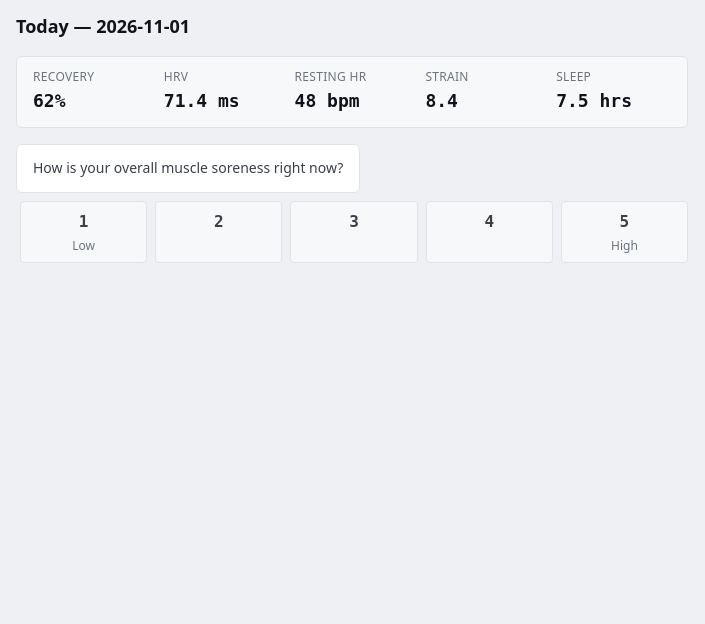
MorningView › degraded-Ollama banner: renders the WARN badge with unchanged banner content, no followup
Click the button "3".
click(354, 232)  # box [290,201,418,263]
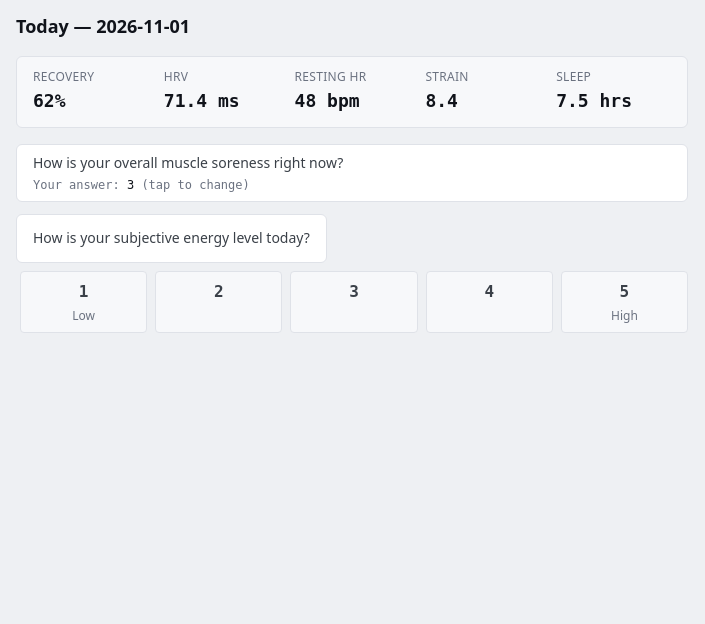
Click the button "3".
click(354, 302)  # box [290,271,418,333]
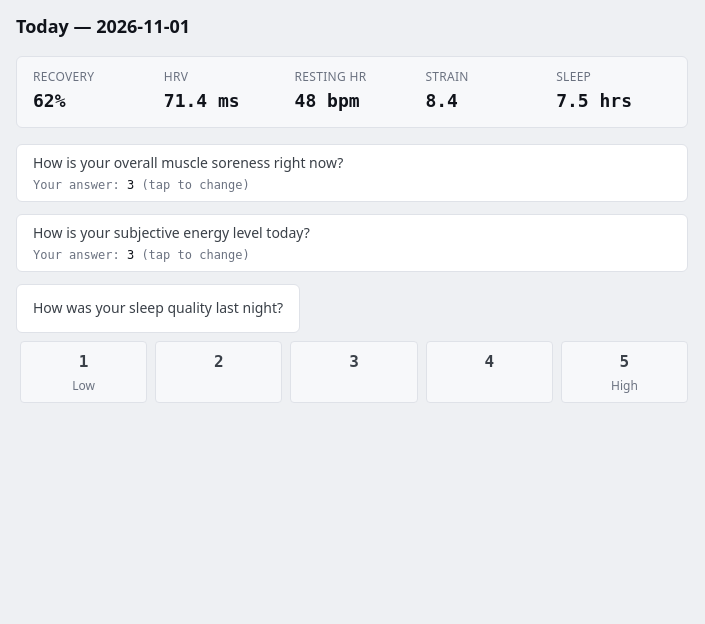
Click the button "3".
click(354, 372)  # box [290,341,418,403]
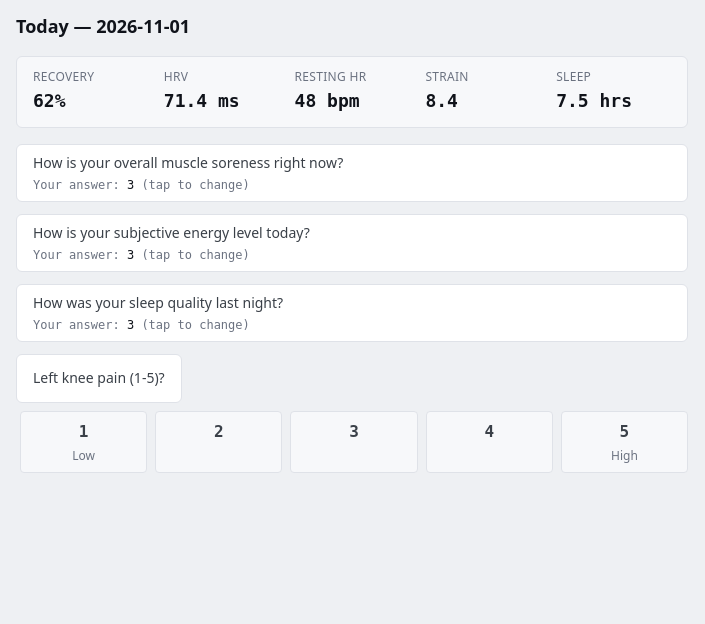
Click the button "3".
click(354, 442)  # box [290,411,418,473]
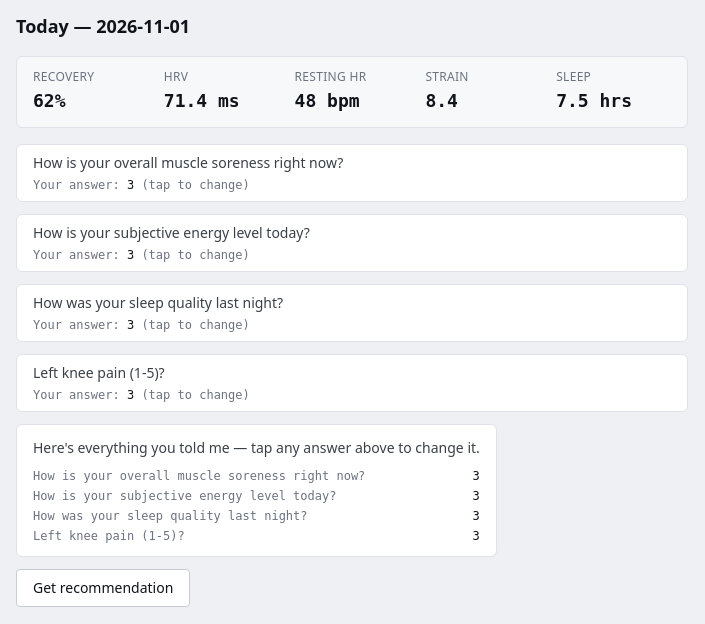
Click the button with test id "confirm-decision".
click(103, 588)  # box [16,569,190,607]
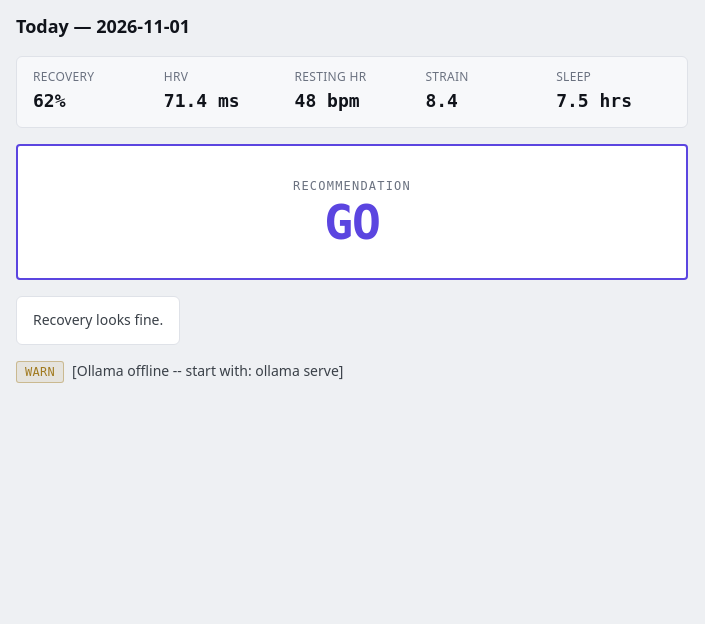
Expected: the element with test id "morning-banner" shows "WARN", [25,365,55,379]
Expected: the element with test id "morning-banner" shows "[Ollama offline -- start with: ollama serve]", [72,361,343,380]
